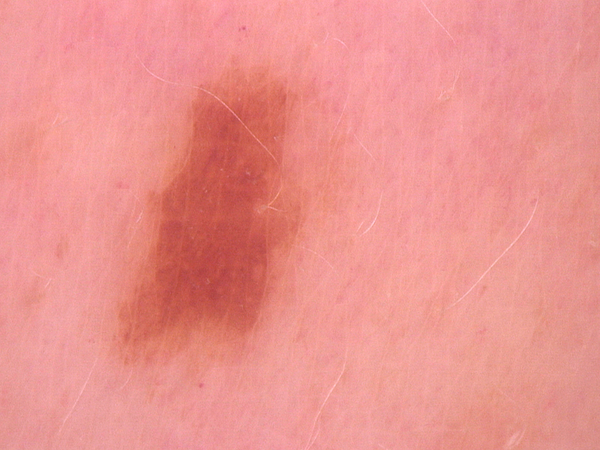Detected Lesion: (104, 62, 301, 369)
